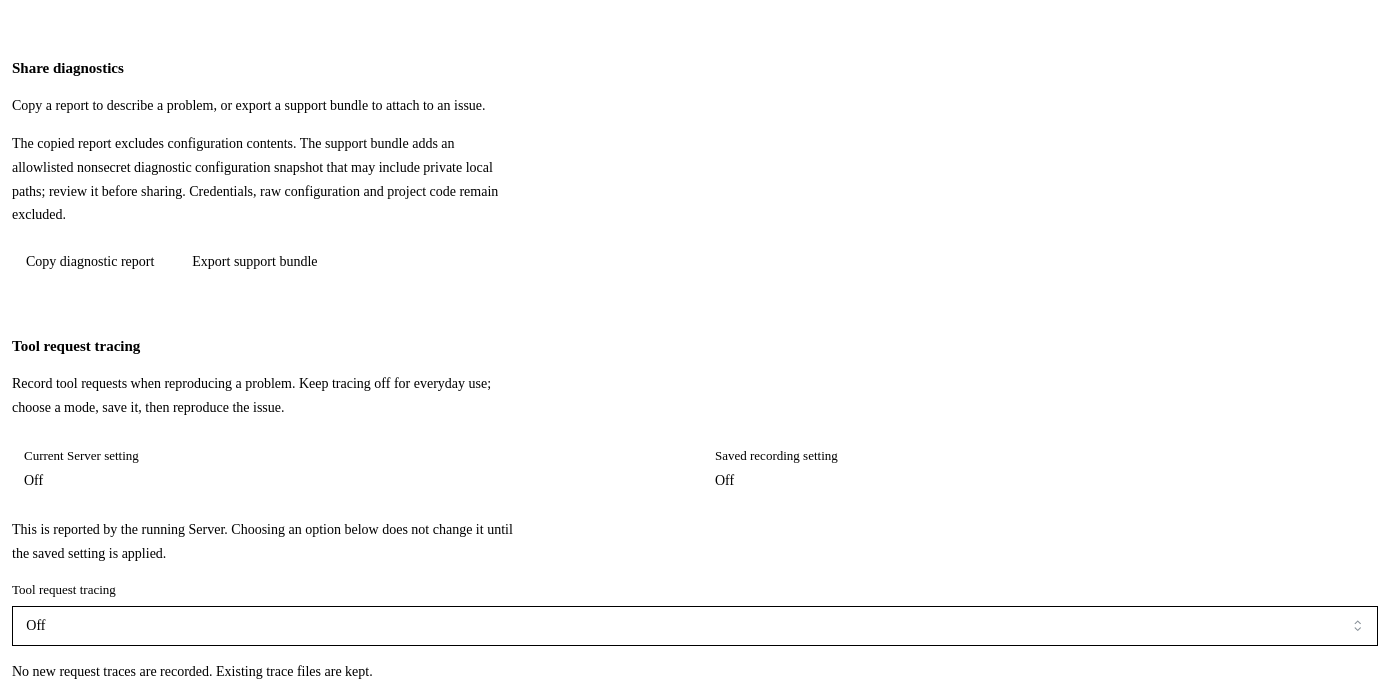
Test case: Diagnostics are explicit and secret-free › keeps the running mode separate from the draft and a saved pending setting
Step 1. Click the dropdown labelled "Tool request tracing" → (695, 626), box [12,606,1378,646]
(page scrolled)
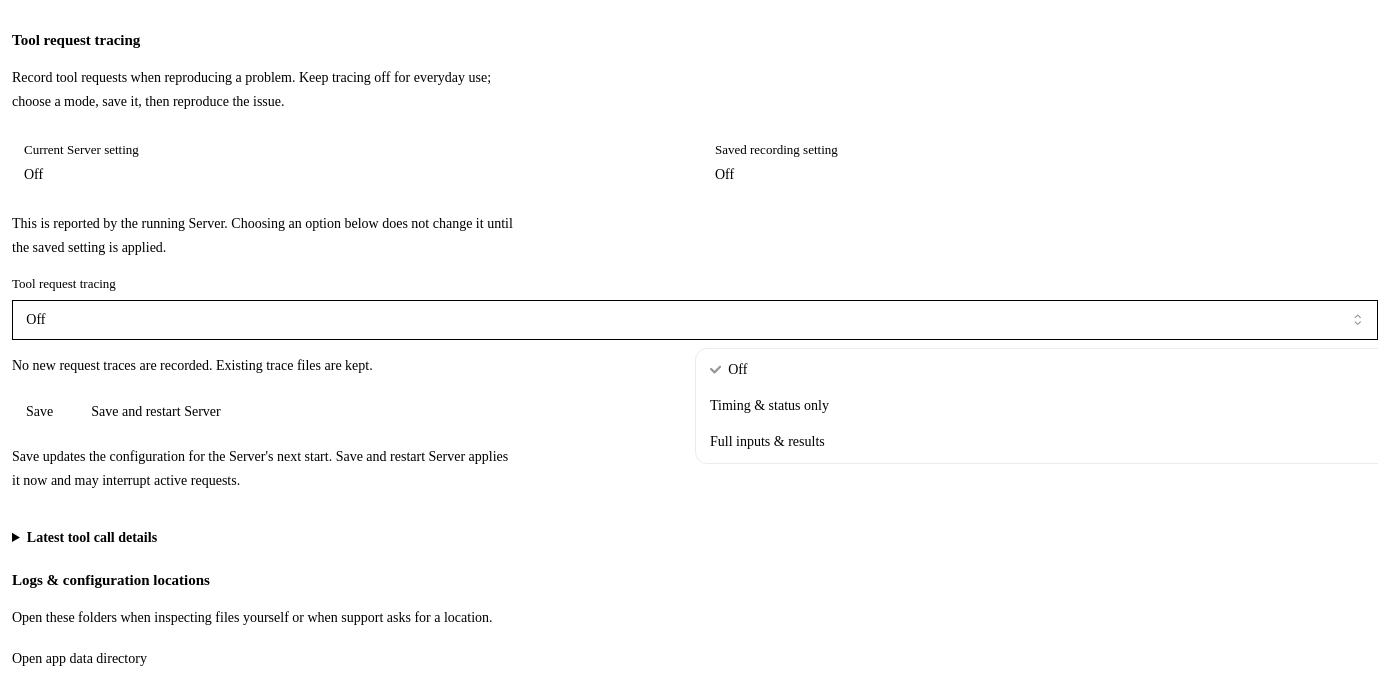
Step 2. Click the option "Timing & status only" → (769, 405), box [710,398,829,413]
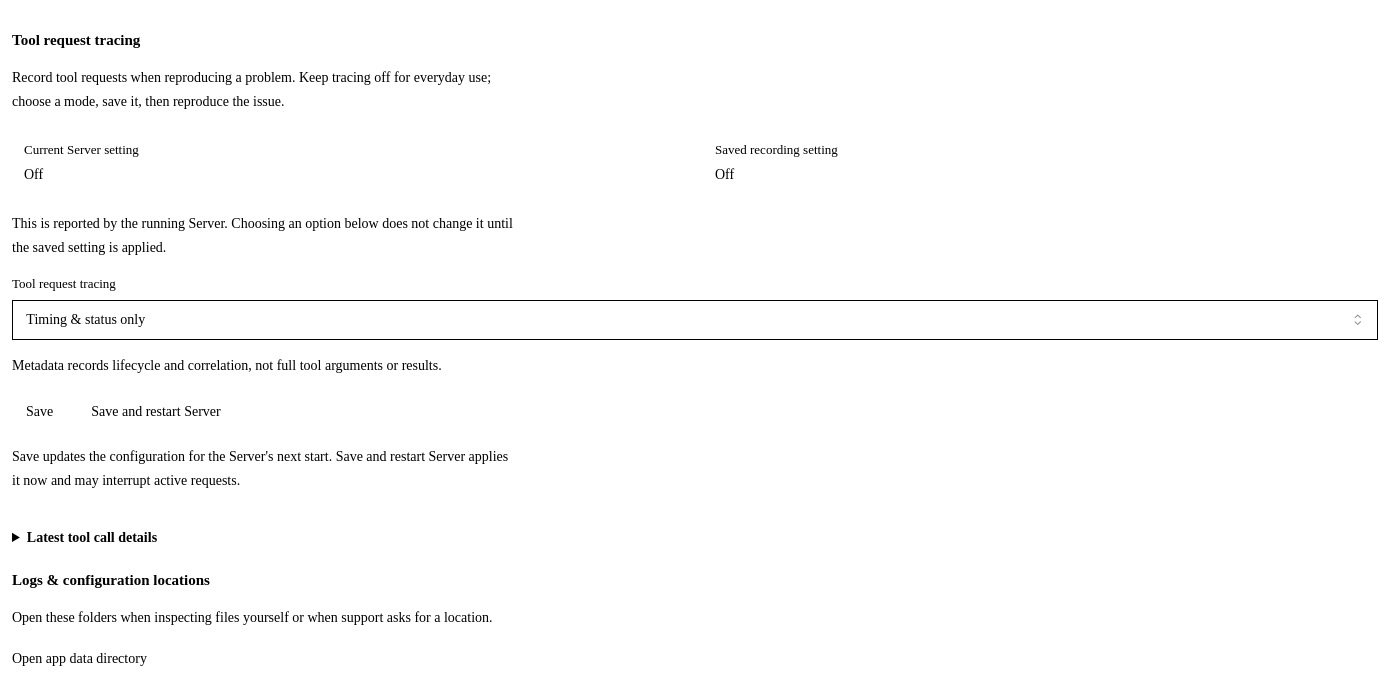
Expected: the text "Off" below "Saved recording setting" is shown, [715,167,734,182]
Step 3. Click the button "Save" → (40, 411), box [12,391,67,431]
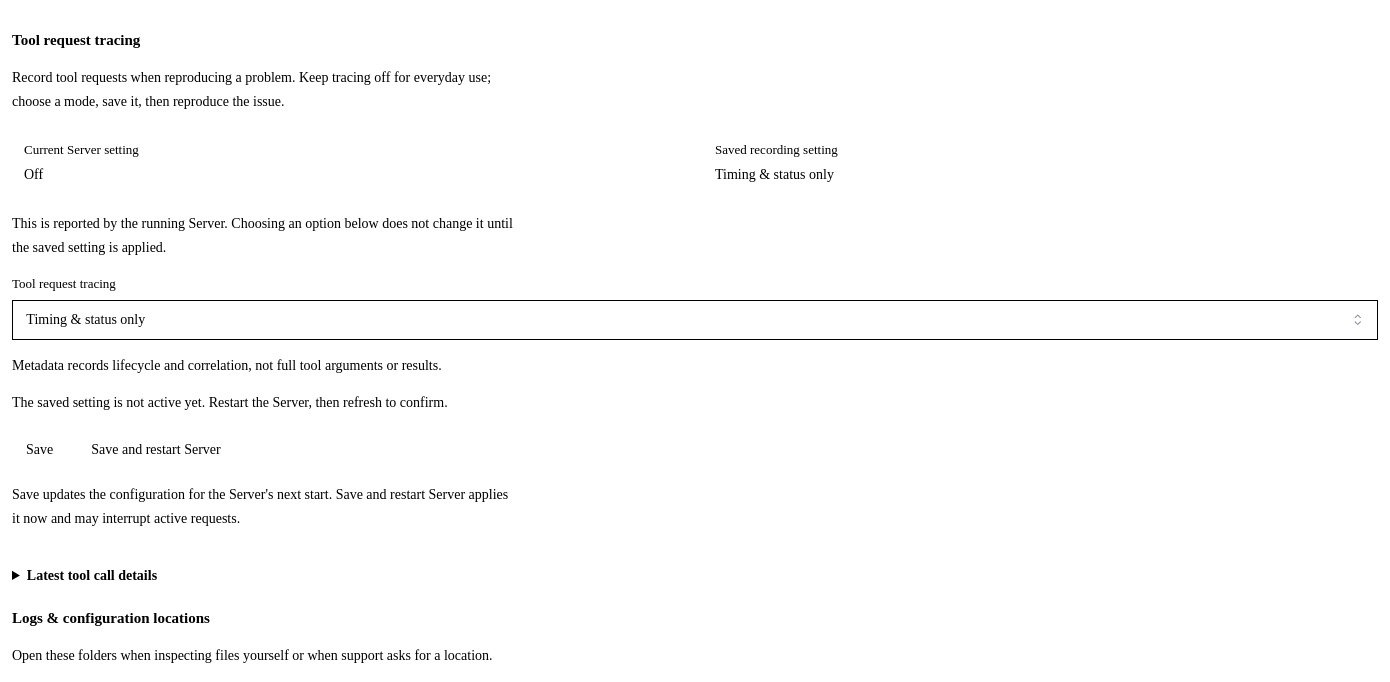
Expected: the text "Off" is shown, [24,167,43,182]
Expected: the text "The saved setting is not active yet" is shown, [12,395,448,410]
Expected: the text "Timing & status only" is shown, [715,167,834,182]
